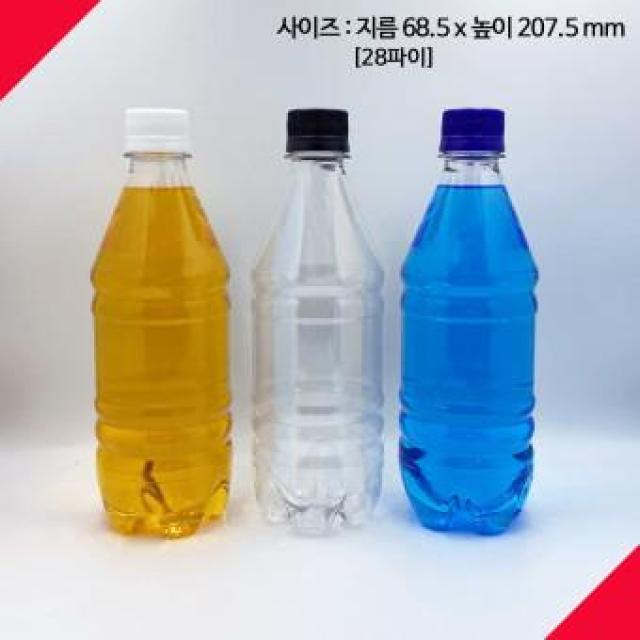bottle: (88, 106, 232, 538), (402, 109, 535, 537), (254, 109, 384, 535)
